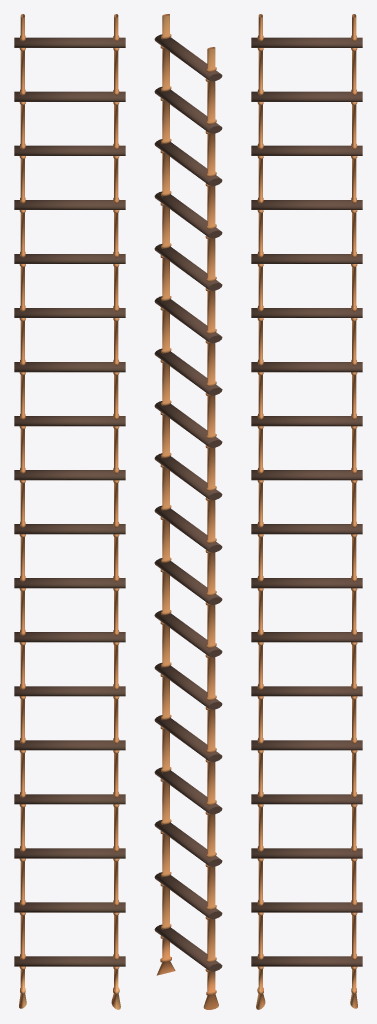
Rendered from Rope-ladder.fbx.
3 views of the same model, side by side, from view 1: azimuth 90°, elevation 25°; view 2: azimuth 210°, elevation 25°; view 3: azimuth 270°, elevation 25° (orthographic). The views are drawn at different scales.
Visible parts, largest first — view 1: Rope-ladder; view 2: Rope-ladder; view 3: Rope-ladder.
Boxes of the visible parts, x1=… form: Rope-ladder: x1=14, y1=14, x2=125, y2=1009; Rope-ladder: x1=154, y1=14, x2=222, y2=1009; Rope-ladder: x1=251, y1=14, x2=362, y2=1009.
Size of the model in its own units: 81.77 by 4034 by 411.
